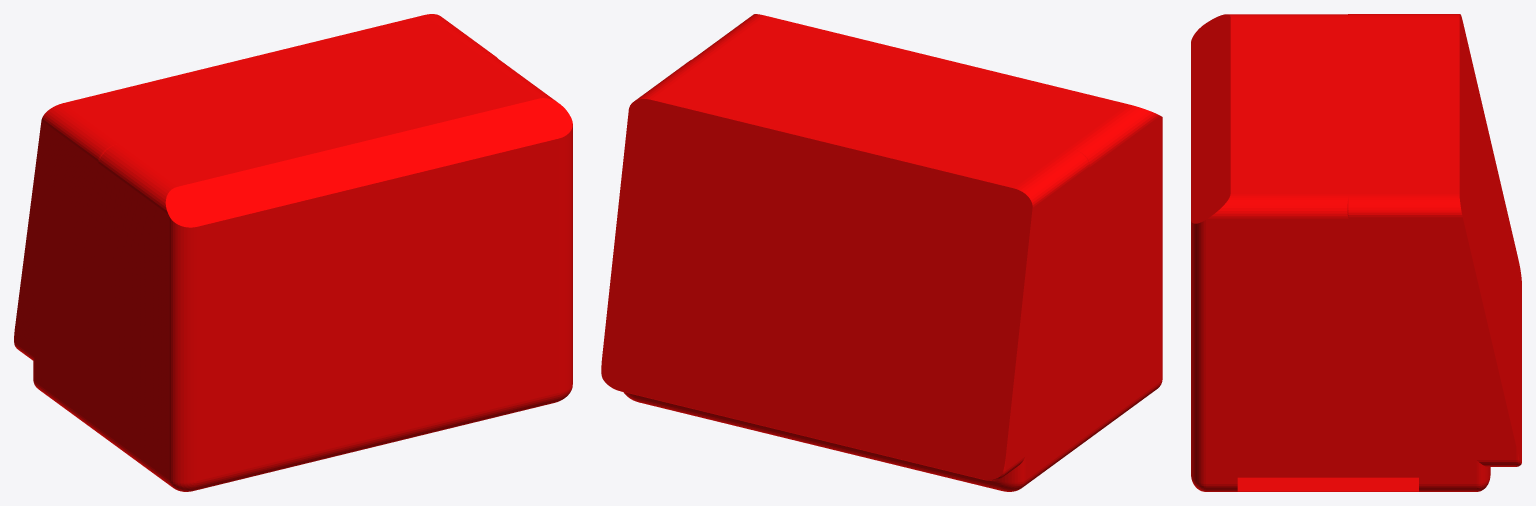
File: mac.glb
The picture shows the model from 3 angles, left to right: view 1: azimuth 30°, elevation 25°; view 2: azimuth 150°, elevation 25°; view 3: azimuth 270°, elevation 25°; orthographic projection.
Parts seen in each view (by area): view 1: entity_2; view 2: entity_2; view 3: entity_2.
Part boxes in pixels (x1,y1,x2,y2): entity_2: (14, 14, 572, 491); entity_2: (601, 14, 1162, 491); entity_2: (1191, 14, 1521, 491).
Bounding box in the file's own units: 200 × 140 × 142.
